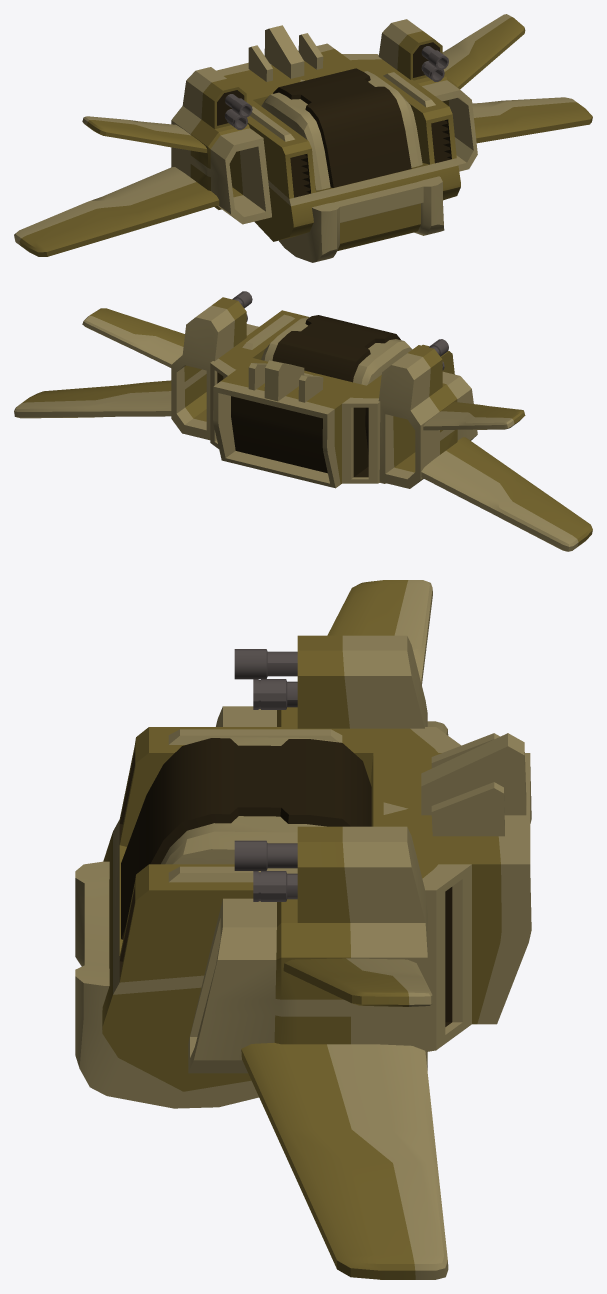
The model's file is quaternius-ultimate-space-spaceship-finnthefrog.glb.
3 views of the same model, one above another, from view 1: azimuth 30°, elevation 25°; view 2: azimuth 150°, elevation 25°; view 3: azimuth 270°, elevation 25° (orthographic). The views are drawn at different scales.
Parts seen in each view (by area): view 1: Spaceship_FinnTheFrog; view 2: Spaceship_FinnTheFrog; view 3: Spaceship_FinnTheFrog.
Boxes of the visible parts, <box> form: Spaceship_FinnTheFrog: <box>14,14,592,262</box>; Spaceship_FinnTheFrog: <box>14,291,592,551</box>; Spaceship_FinnTheFrog: <box>75,580,531,1279</box>.
Bounding box in the file's own units: 11.62 × 3.06 × 4.11.
Materials: 1 (1 with a texture image).
